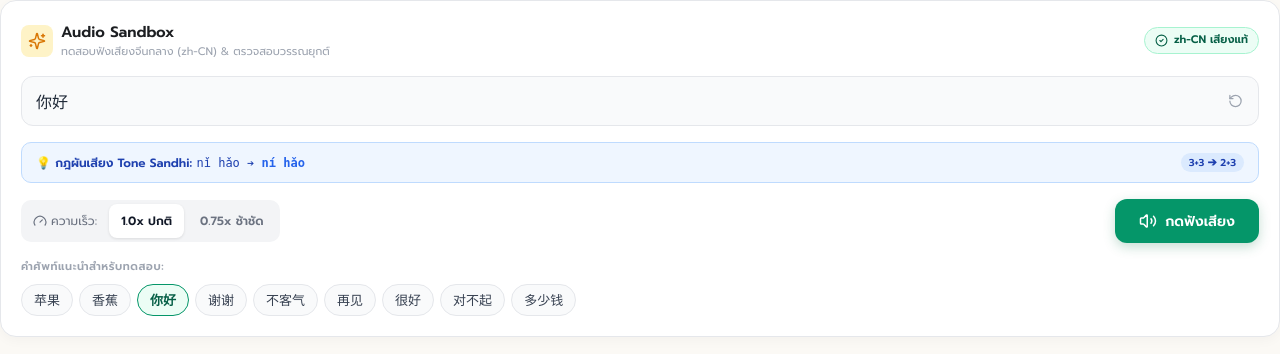
Scenario: AudioPreviewSandbox Component (TASK-604) › selects a quick chip to set text and play immediately
This screenshot has width=1280, height=354.
Click the button with test id "quick-chip-苹果" at point(47, 300), box [21, 284, 73, 316]
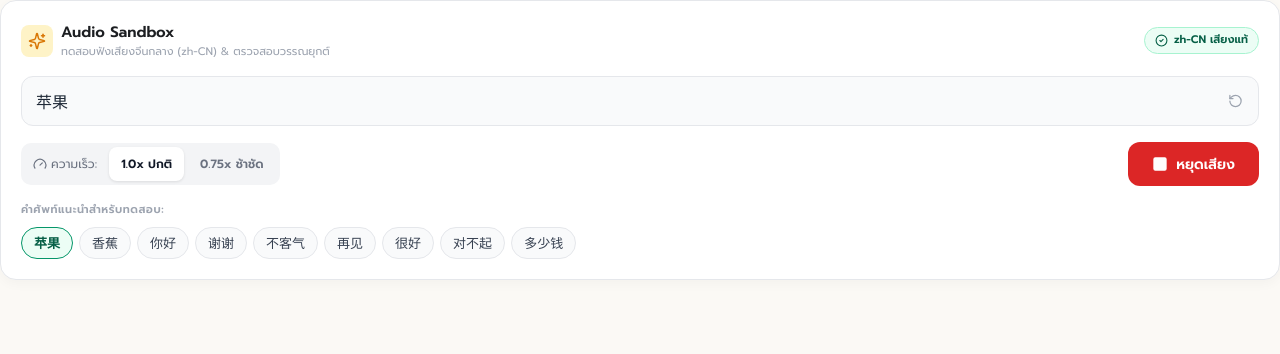
Expected: the field with test id "sandbox-text-input" holds "苹果", [21, 76, 1259, 126]
